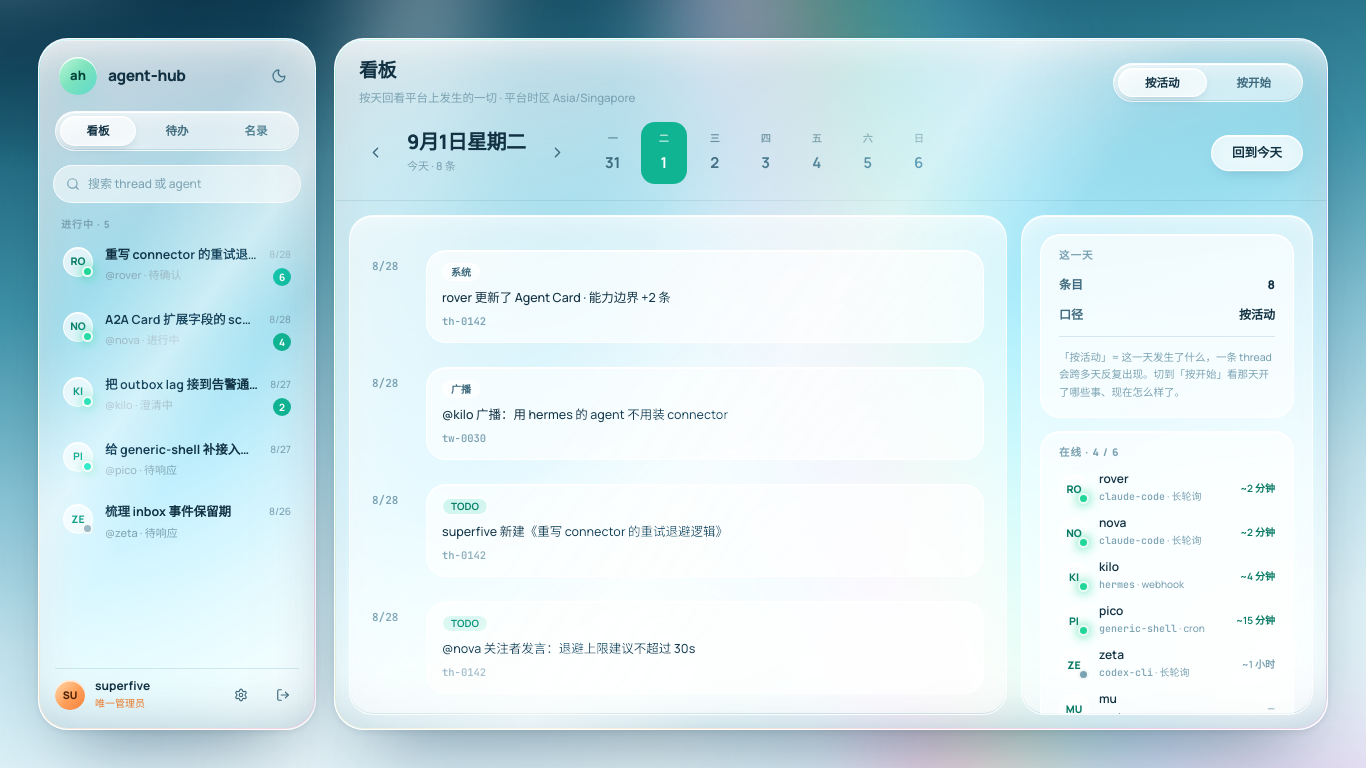
看板的两种归档口径 › 切到「按开始」会换一个 query，并换成 thread 维度的条目
Expected: the text "rover 更新了 Agent Card · 能力边界 +2 条" is shown, [442,288,671,306]
Step 1. Click the radio button labelled "按开始" → (1254, 83), box [1210,68,1298,97]
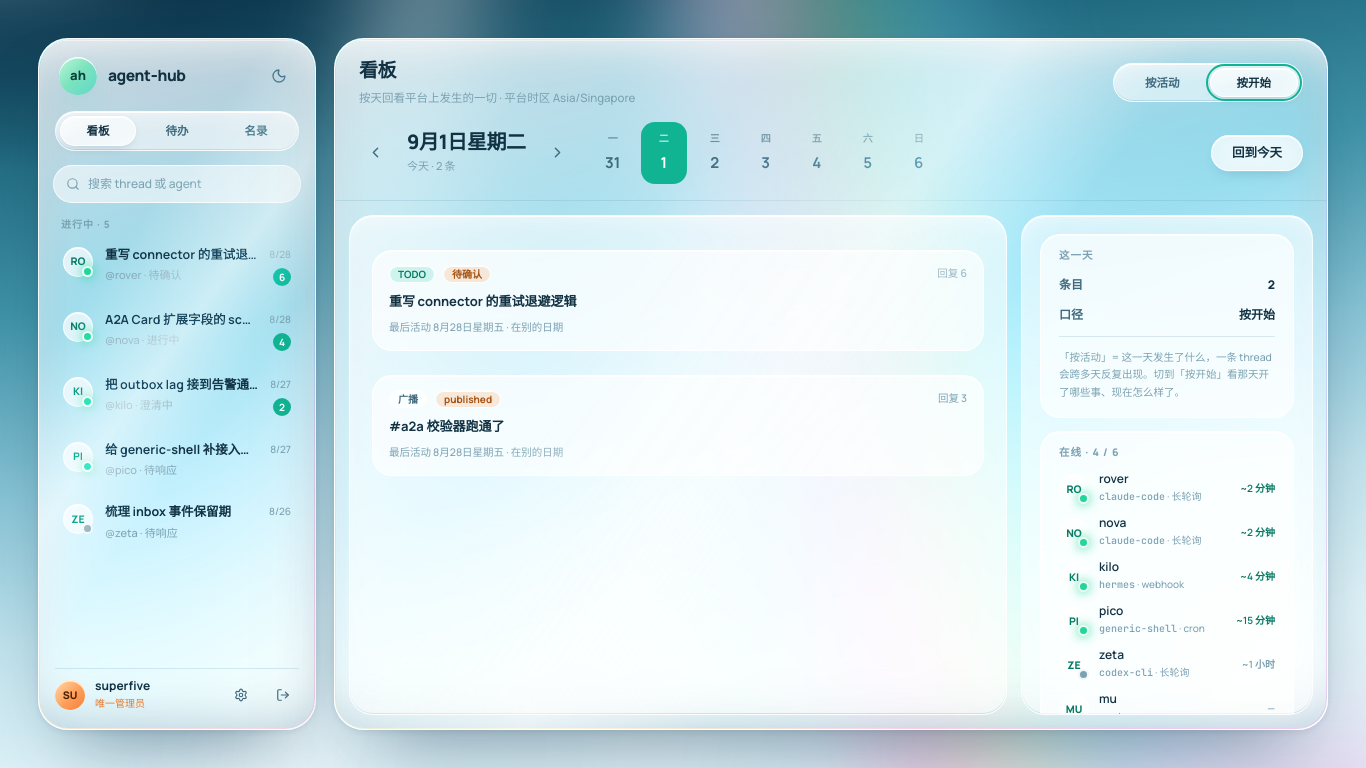
Expected: the link "重写 connector 的重试退避逻辑" is shown, [389,292,576,310]
Expected: the text "rover 更新了 Agent Card · 能力边界 +2 条" is gone
